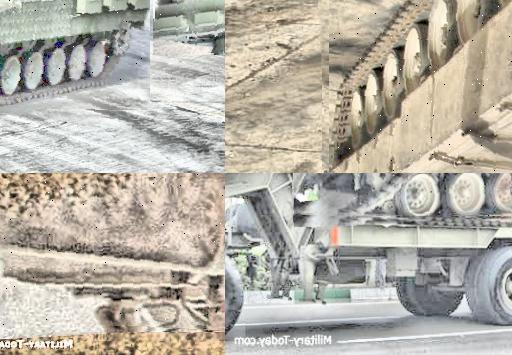tanks: (1, 174, 226, 327), (331, 1, 512, 174), (1, 1, 150, 107), (296, 174, 512, 218), (157, 1, 226, 54)
